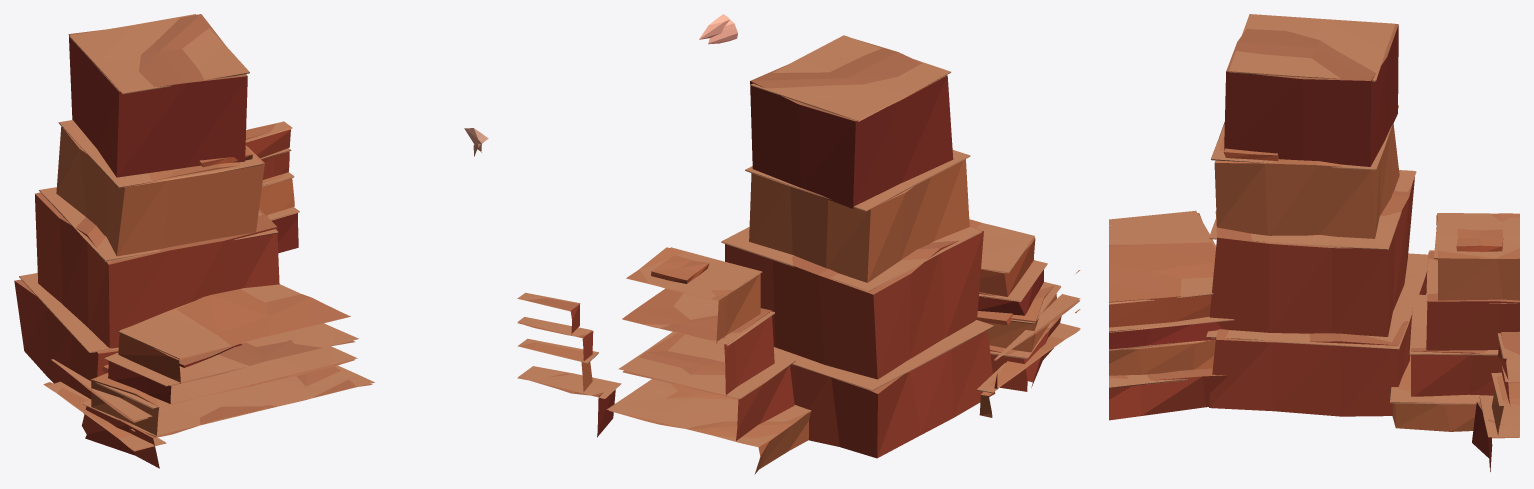
3 views of the same model, side by side, from view 1: azimuth 30°, elevation 25°; view 2: azimuth 150°, elevation 25°; view 3: azimuth 270°, elevation 25° (orthographic).
Parts seen in each view (by area): view 1: scene.6.4; view 2: scene.6.4 (×2); view 3: scene.6.4.
Part boxes in pixels (x1,y1,x2,y2): scene.6.4: [14, 14, 374, 468]; scene.6.4 (×2): [517, 14, 1080, 474]; scene.6.4: [1109, 14, 1519, 471].
Size of the model in its own units: 62.5 by 53.94 by 62.5.
